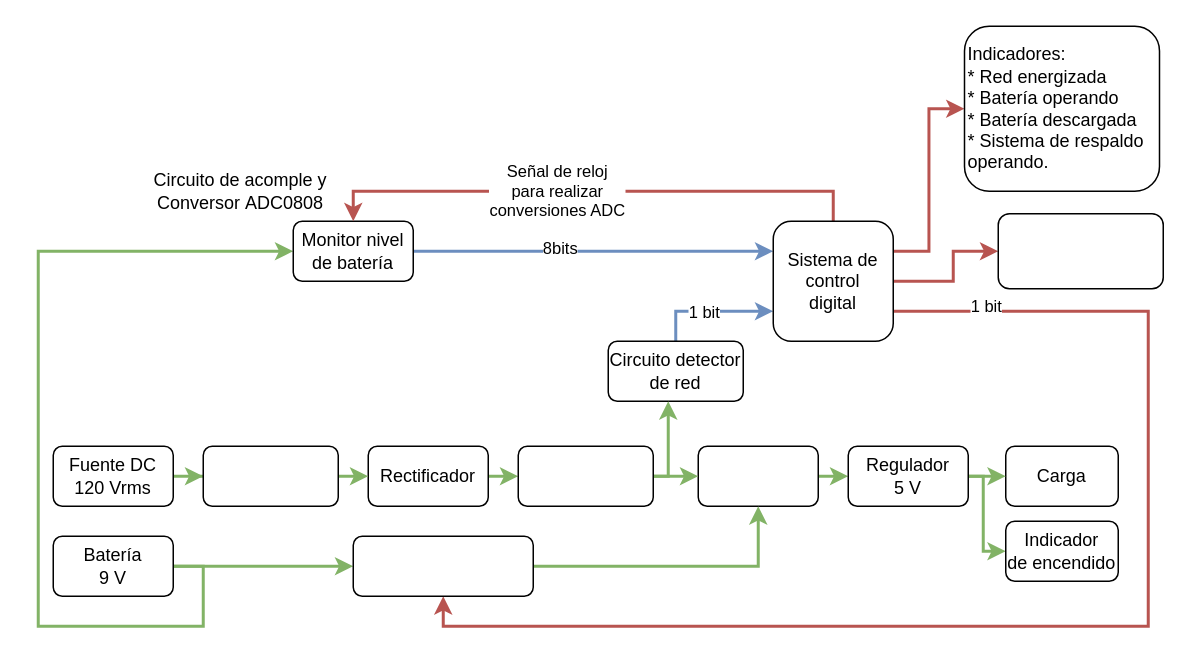
The diagram is 1190 pixels wide and 666 high, and some of its shapes have lost their labels. The shapes that lost their labels are listed below. From the top down, each one's centre as x and y in pixels, then its label:
At pixel 1080 250: "Tensión de la batería (cuantitativo)".
At pixel 270 475: "Transformador".
At pixel 585 475: "Condensadores".
At pixel 757 475: "Conmutador".
At pixel 442 565: "Switch de protección de batería".
